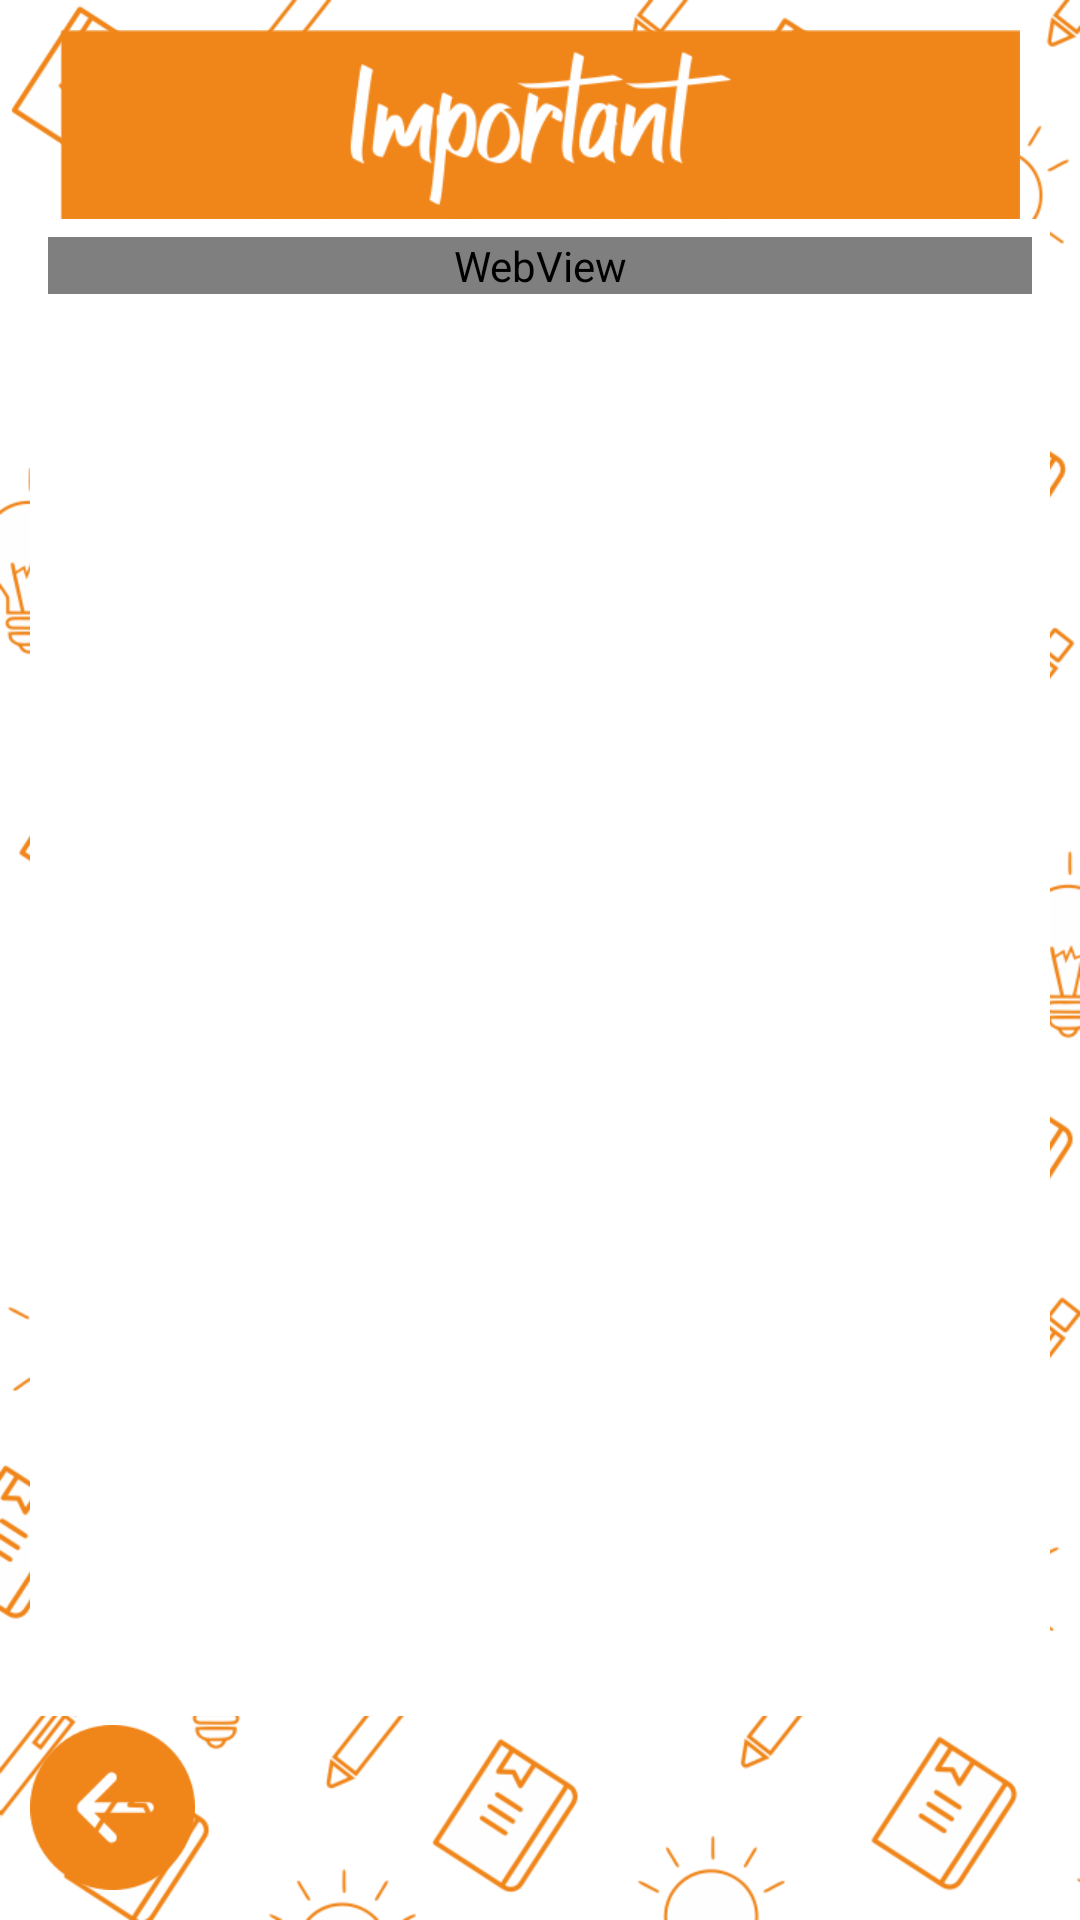

Screen size 1080px x 1920px. Icon name, then its box in pixels as (x1, y1, x2, y2):
back: (30, 1725, 195, 1890)
